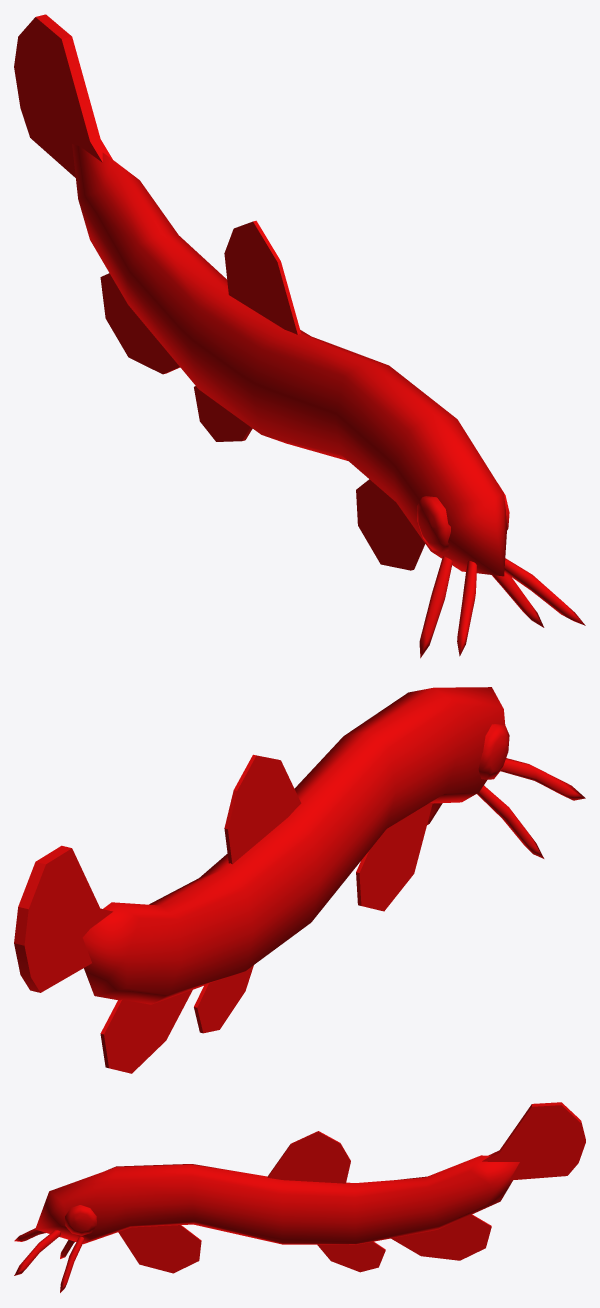
3 renders of one model, top to bottom at view 1: azimuth 30°, elevation 25°; view 2: azimuth 150°, elevation 25°; view 3: azimuth 270°, elevation 25°, orthographic. The views are drawn at different scales.
Parts seen in each view (by area): view 1: Fish_Loach; view 2: Fish_Loach; view 3: Fish_Loach.
Boxes of the visible parts, left/top/right/bottom form: Fish_Loach: left=14, top=14, right=585, bottom=658; Fish_Loach: left=14, top=687, right=585, bottom=1073; Fish_Loach: left=14, top=1102, right=585, bottom=1292.
Size of the model in its own units: 0.0435 by 0.1002 by 0.3005.
